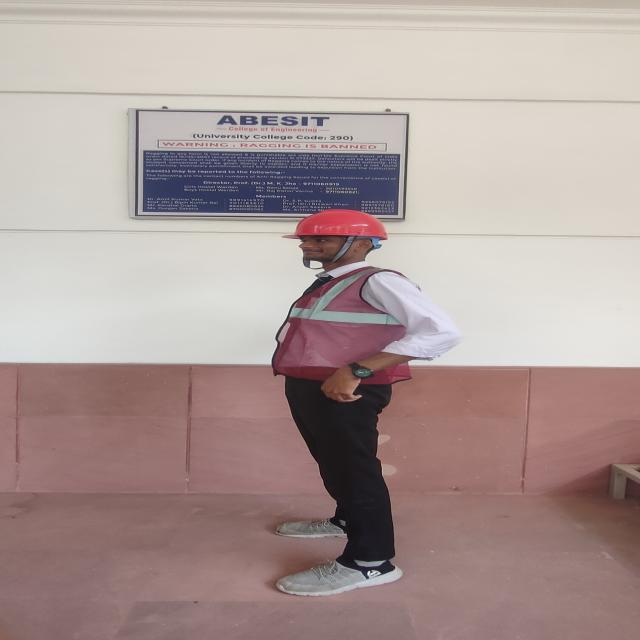safe: (273, 210, 458, 592)
